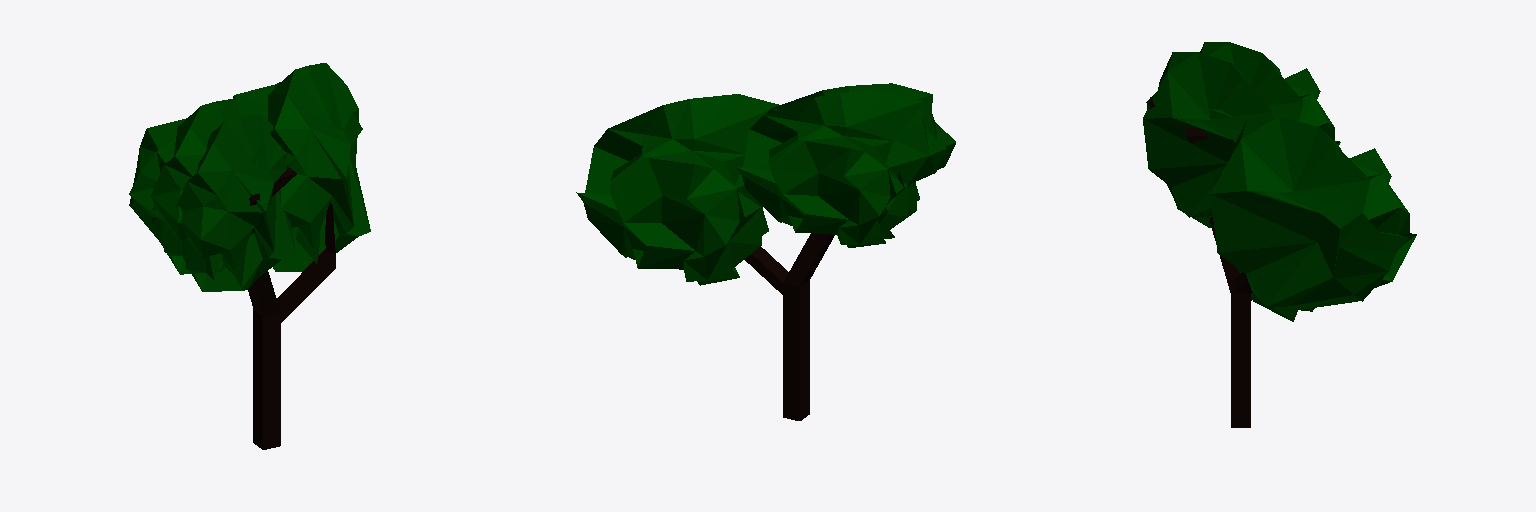
The model's file is tree1.obj.
3 renders of one model, left to right at view 1: azimuth 30°, elevation 25°; view 2: azimuth 150°, elevation 25°; view 3: azimuth 270°, elevation 25°, orthographic.
Parts seen in each view (by area): view 1: 立方体.001_立方体.004, 立方体, 立方体.002_立方体.005, Cube; view 2: 立方体, 立方体.002_立方体.005, Cube, 立方体.001_立方体.004; view 3: 立方体, 立方体.001_立方体.004, 立方体.002_立方体.005, Cube.
Boxes of the visible parts, box(x1,y1,x2,y2) form: 立方体.001_立方体.004: box(151, 114, 295, 291); 立方体: box(233, 63, 370, 271); 立方体.002_立方体.005: box(129, 98, 263, 274); Cube: box(248, 166, 335, 449); 立方体: box(576, 94, 778, 285); 立方体.002_立方体.005: box(736, 90, 946, 247); Cube: box(744, 233, 834, 420); 立方体.001_立方体.004: box(766, 83, 955, 238); 立方体: box(1210, 117, 1416, 321); 立方体.001_立方体.004: box(1143, 52, 1272, 227); 立方体.002_立方体.005: box(1200, 42, 1340, 145); Cube: box(1150, 97, 1252, 427).
Size of the model in its own units: 3.53 by 4.35 by 3.14.